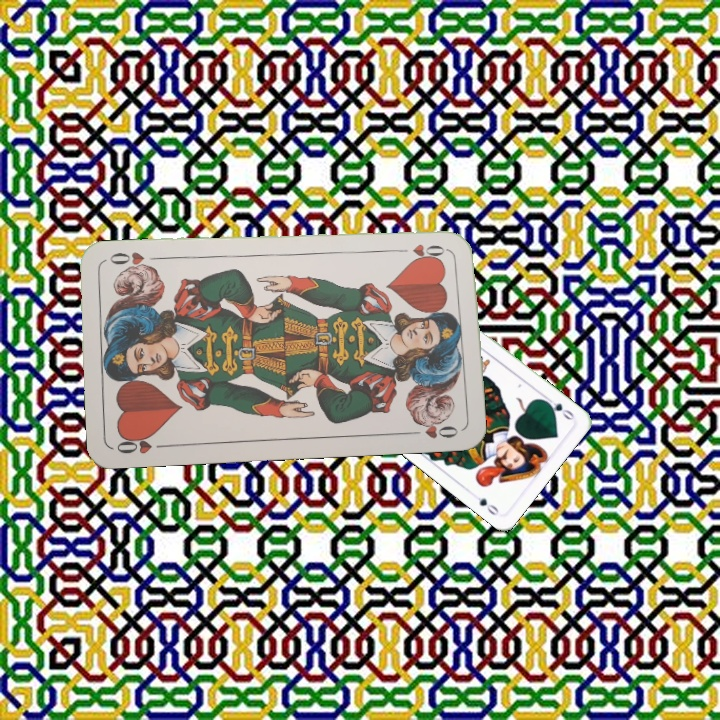GO: (540, 393, 577, 423)
HO: (112, 431, 171, 457), (392, 240, 451, 259)
